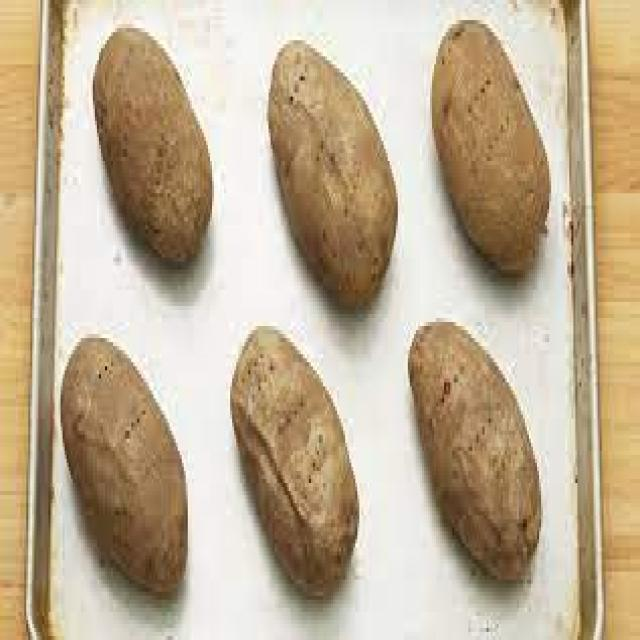Baked Potato: (401, 325, 549, 575), (58, 358, 194, 610), (226, 342, 371, 571), (429, 31, 558, 259), (268, 47, 396, 275), (91, 51, 231, 255)
